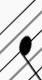B: (10, 8, 42, 80)
